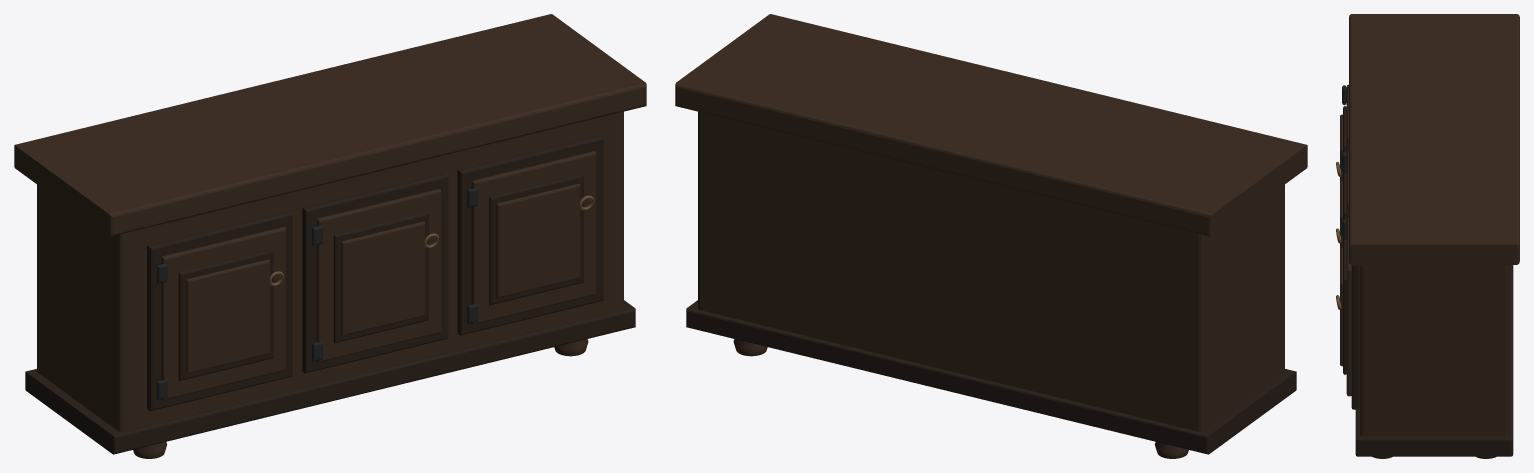
The model's file is paneled-sideboard.glb.
3 views of the same model, side by side, from view 1: azimuth 30°, elevation 25°; view 2: azimuth 150°, elevation 25°; view 3: azimuth 270°, elevation 25° (orthographic). The views are drawn at different scales.
Visible parts, largest first — view 1: paneled-sideboard; view 2: paneled-sideboard; view 3: paneled-sideboard.
Boxes of the visible parts, x1,y1,x2,y2 form: paneled-sideboard: [14, 14, 646, 458]; paneled-sideboard: [675, 14, 1307, 458]; paneled-sideboard: [1336, 14, 1519, 458].
Bounding box in the file's own units: 2.42 × 1.14 × 0.817.
